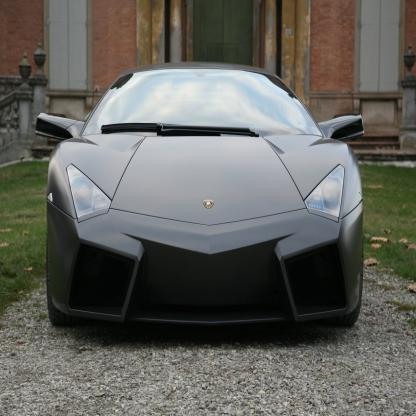Vehicle: (34, 61, 369, 334)
